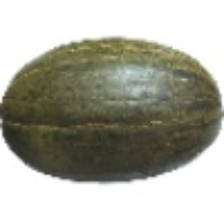honeydew: (29, 45, 218, 210)
